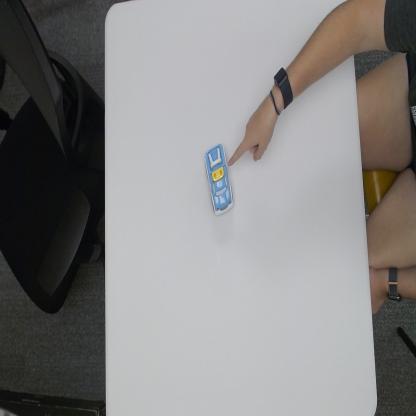Arm: (290, 0, 353, 87)
Car: (204, 142, 234, 218)
Hand: (229, 97, 280, 168)
